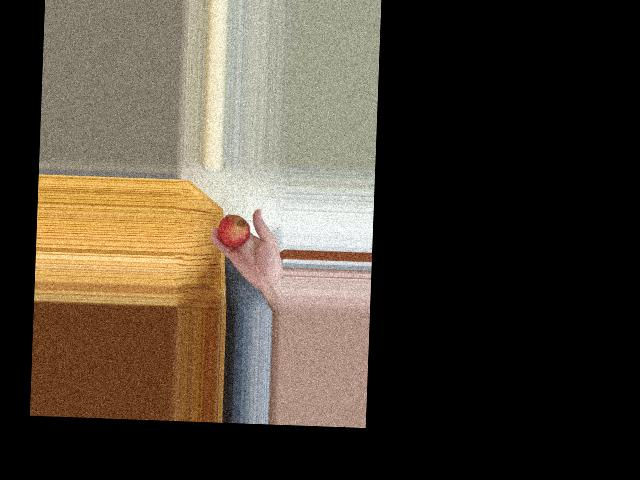apple: (216, 213, 253, 247)
